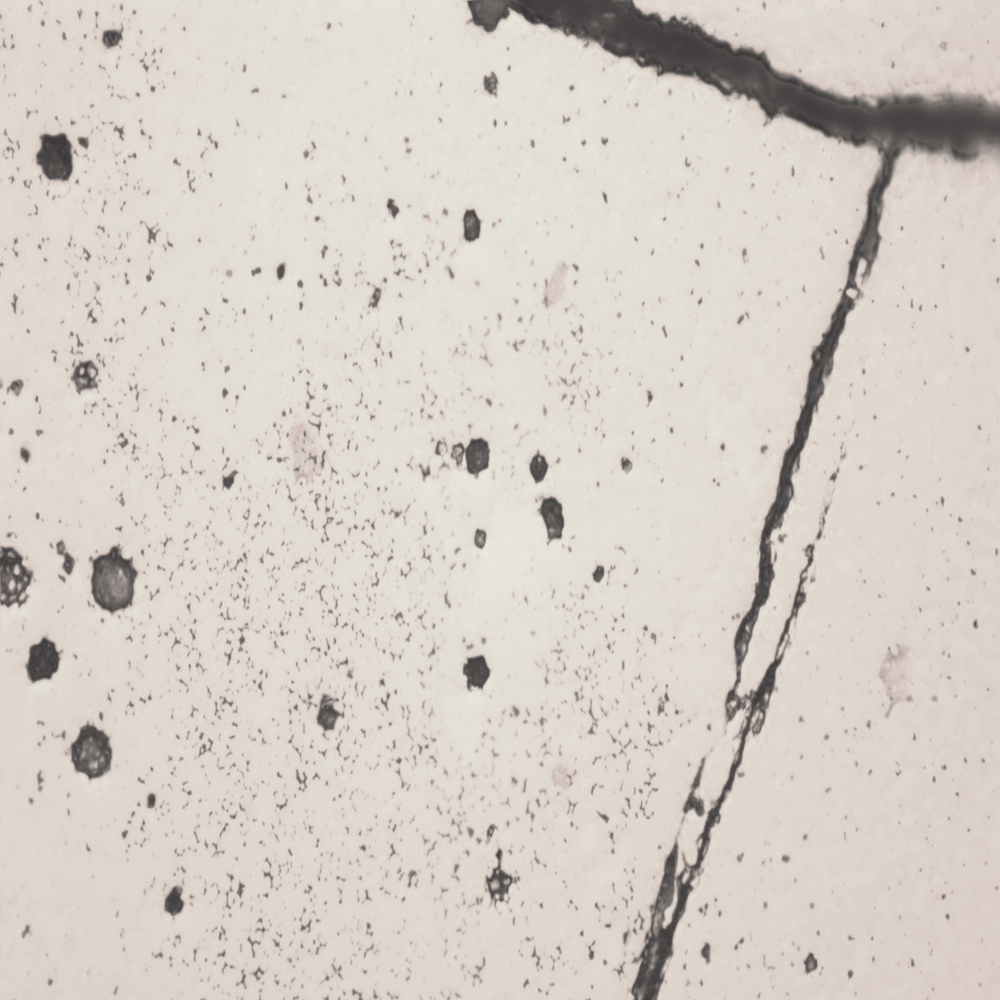crack: (390, 6, 1000, 988), (60, 710, 125, 792), (94, 523, 141, 632), (31, 110, 80, 197), (6, 631, 76, 683), (445, 431, 500, 480), (304, 682, 351, 739), (141, 878, 204, 919), (61, 350, 111, 397), (458, 203, 496, 260), (481, 854, 521, 905), (531, 496, 572, 538), (457, 658, 503, 693), (516, 449, 562, 482)
